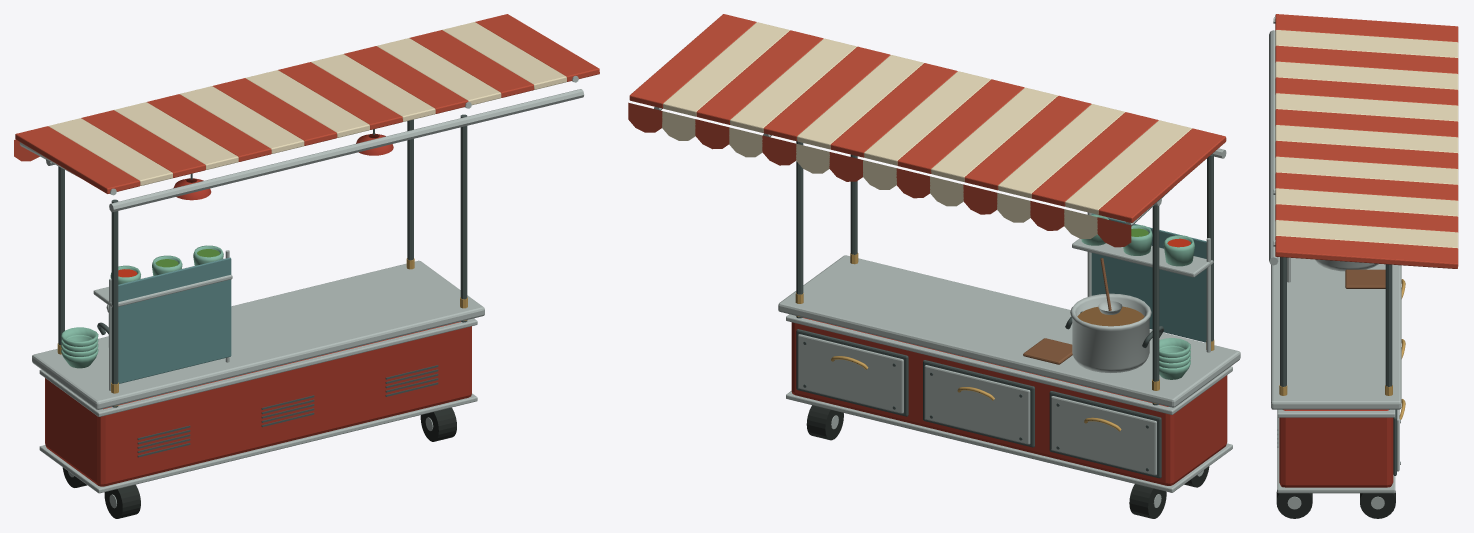
File: lek-food-stall.glb
The picture shows the model from 3 angles, left to right: view 1: azimuth 30°, elevation 25°; view 2: azimuth 150°, elevation 25°; view 3: azimuth 270°, elevation 25°; orthographic projection. The views are drawn at different scales.
Parts seen in each view (by area): view 1: CounterMesh, CanopyMesh, EquipmentMesh; view 2: CanopyMesh, CounterMesh, EquipmentMesh; view 3: CanopyMesh, CounterMesh, EquipmentMesh.
Part boxes in pixels (<box>): CounterMesh: <box>32,114,484,518</box>; CanopyMesh: <box>14,14,599,212</box>; EquipmentMesh: <box>61,245,232,390</box>; CanopyMesh: <box>628,14,1226,247</box>; CounterMesh: <box>778,141,1240,518</box>; EquipmentMesh: <box>1023,212,1213,379</box>; CanopyMesh: <box>1269,14,1458,268</box>; CounterMesh: <box>1271,257,1405,518</box>; EquipmentMesh: <box>1287,257,1385,288</box>.
Bounding box in the file's own units: 4.16 × 2.67 × 1.37.
